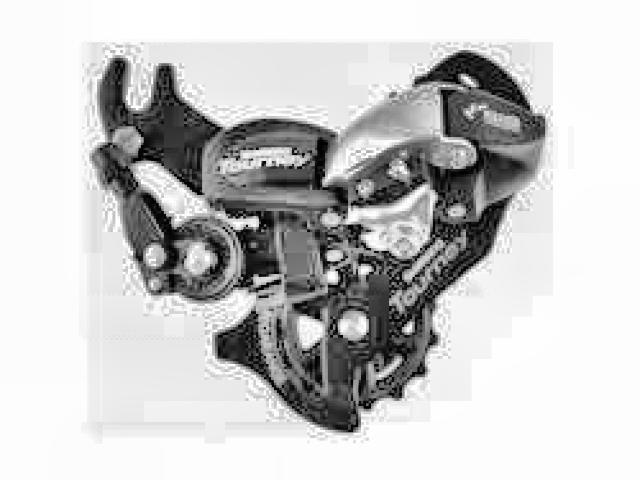rear_derailleur: (87, 42, 555, 436)
